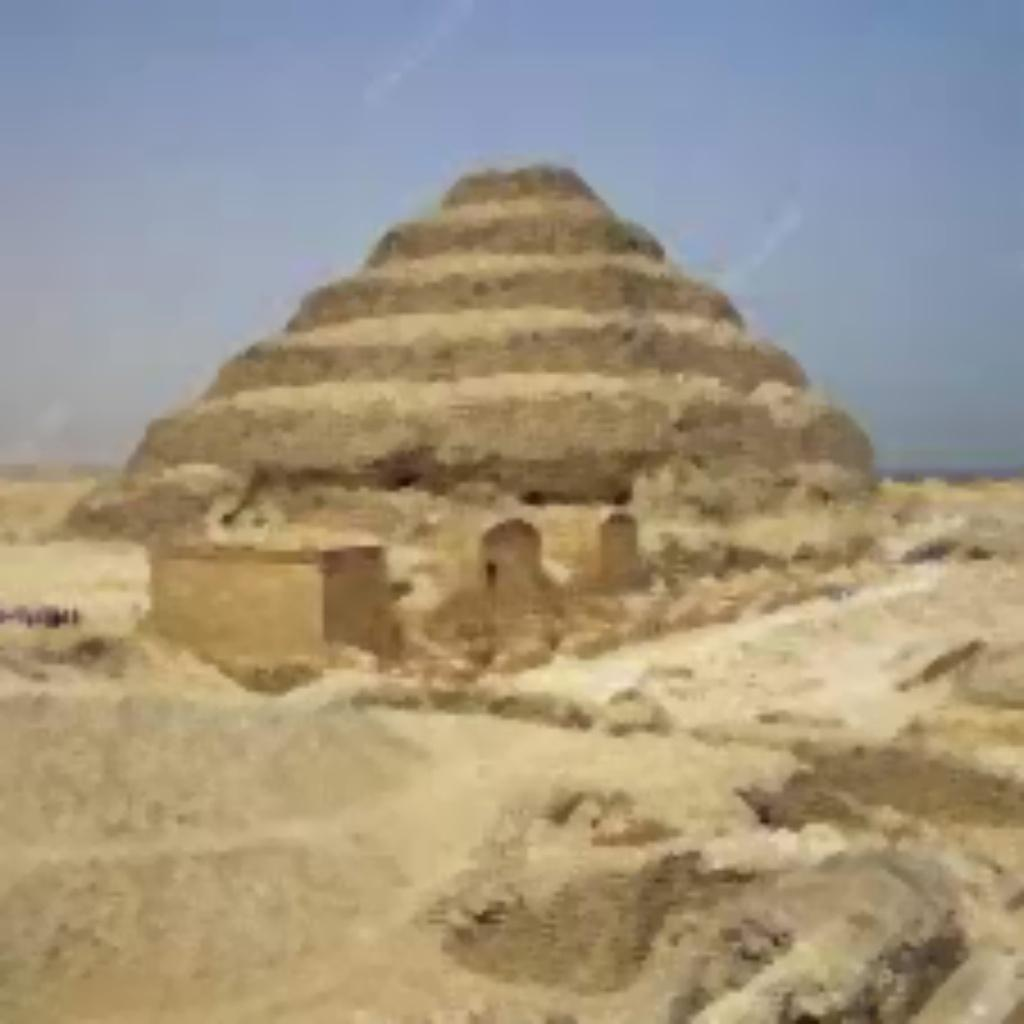Pyramid of Djoser: (68, 146, 883, 669)
